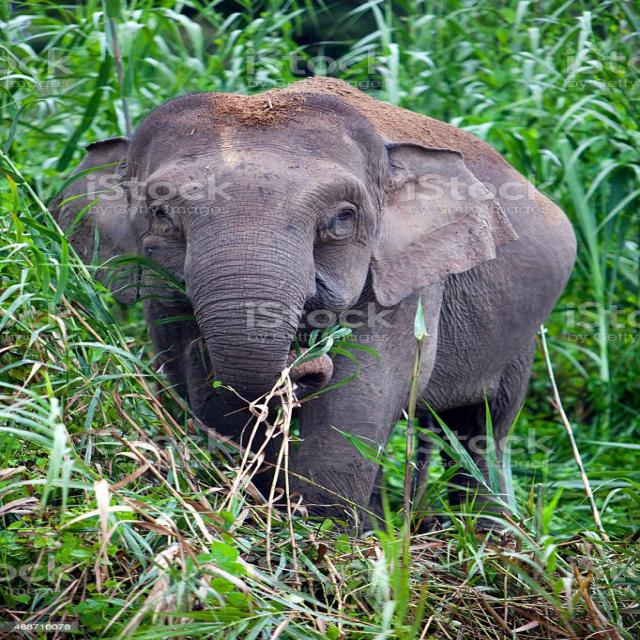Elephant: (29, 71, 619, 548)
